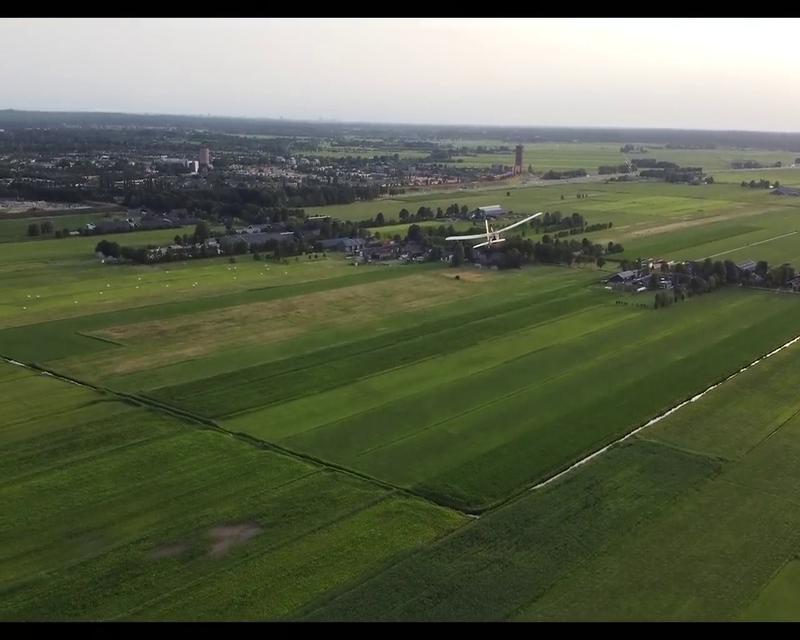UAV: (443, 212, 542, 251)
